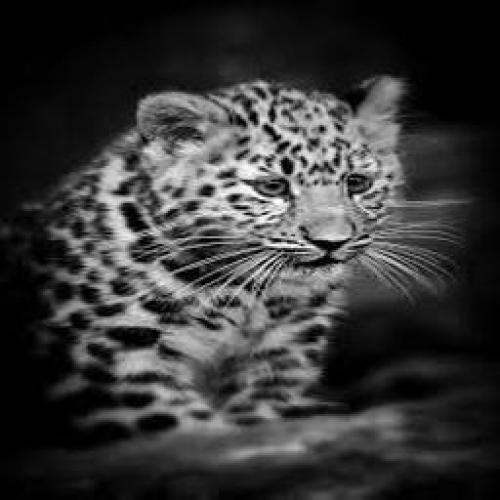amur_leopard-endangered: (32, 67, 410, 437)
